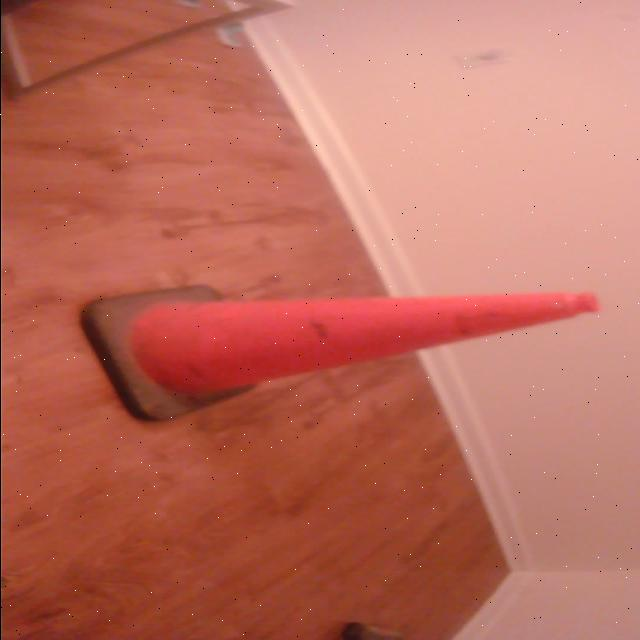traffic cone: (77, 283, 604, 425)
